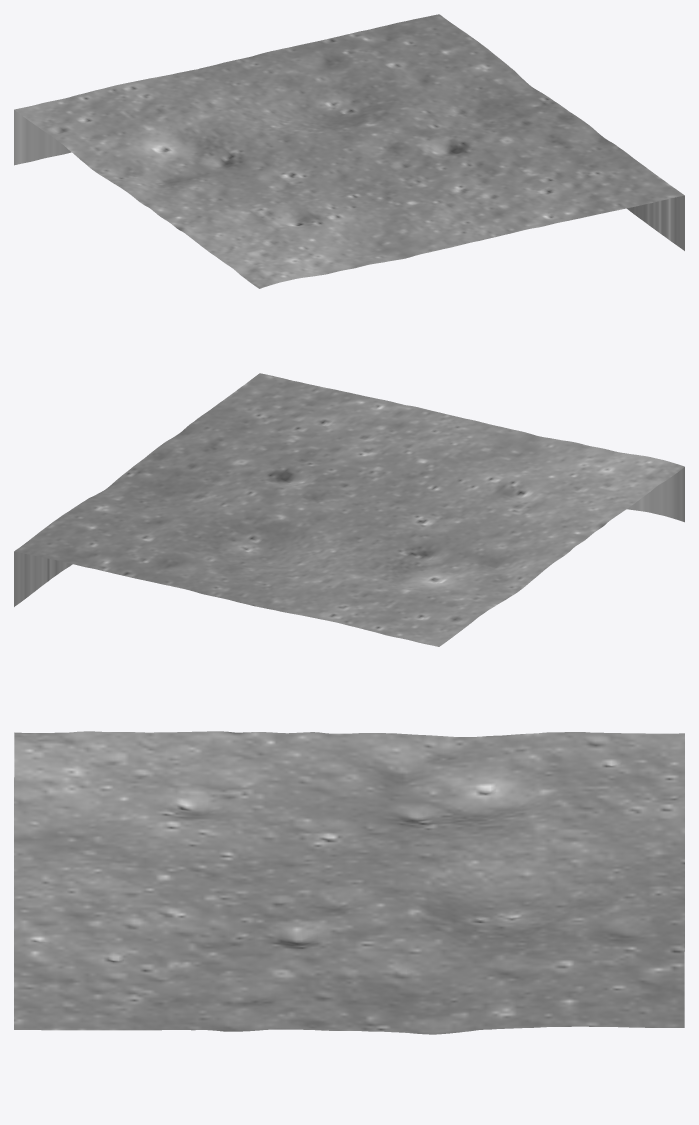
3 renders of one model, top to bottom at view 1: azimuth 30°, elevation 25°; view 2: azimuth 150°, elevation 25°; view 3: azimuth 270°, elevation 25°, orthographic. The views are drawn at different scales.
Bounding box in the file's own units: 639 × 102 × 639.
1 material, 1 textured.
